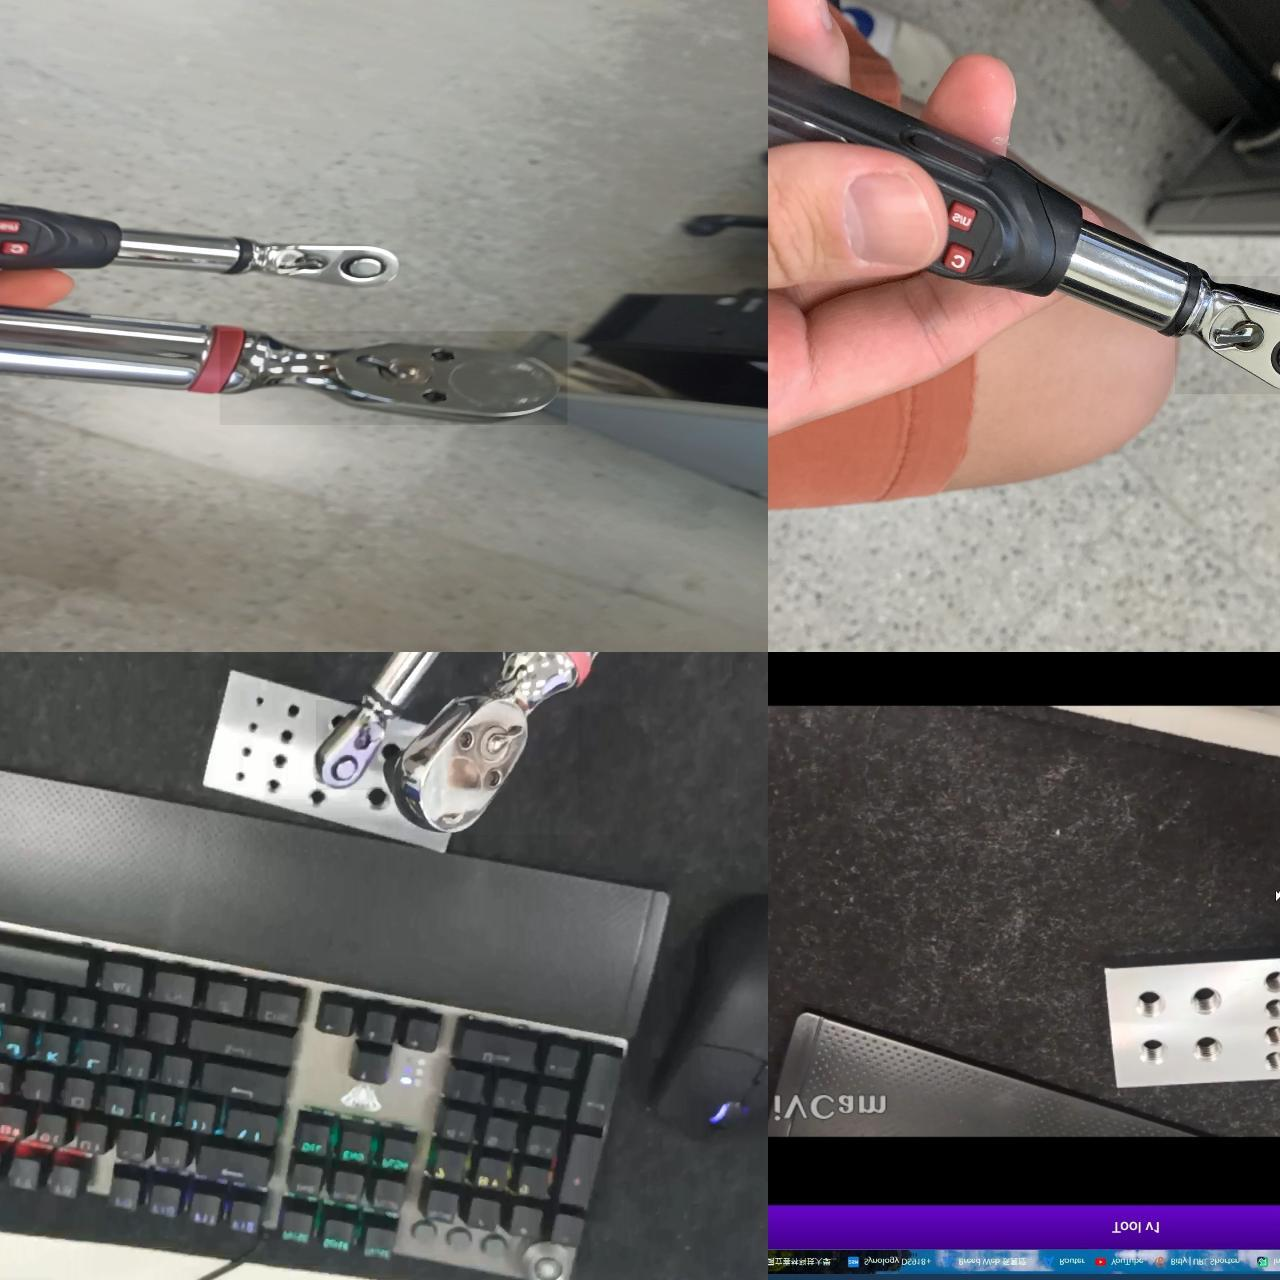Tool: (398, 652, 578, 835), (220, 332, 568, 424), (1175, 276, 1280, 394), (241, 238, 403, 292), (316, 700, 382, 790)
